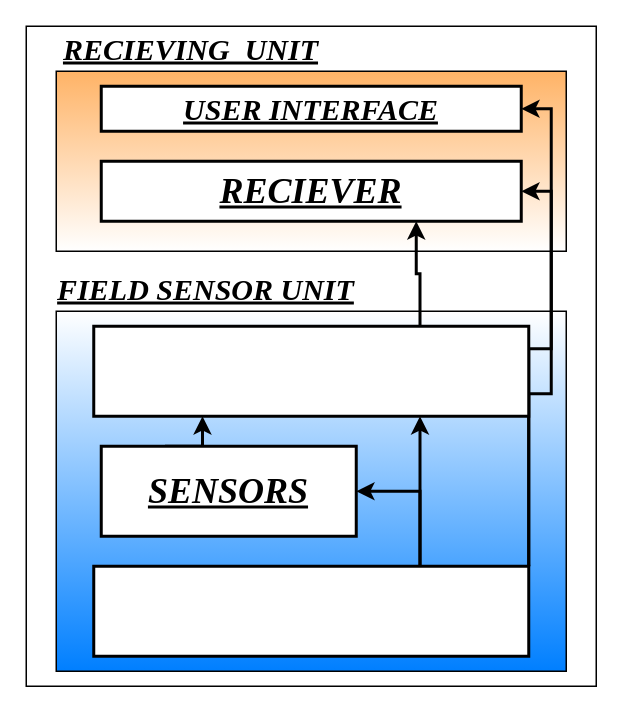
Some shapes in this 623 by 713 pixel diagram are drawn without their labels. The shapes that lost their labels are listed below. From the top down, each one's box as (x1, y1, x2, y2) in pixels, then its label:
(92, 324, 530, 417): TRANSMITTER & STORAGE
(92, 564, 530, 657): POWER
